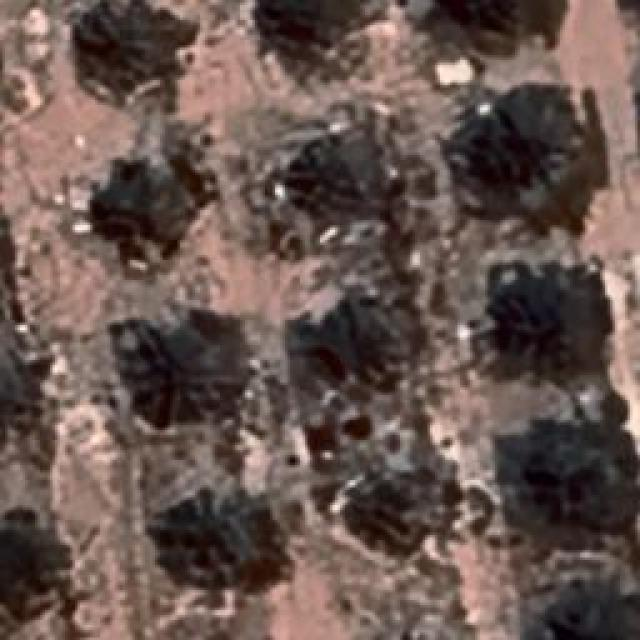PalmTree: (75, 90, 386, 506), (30, 88, 75, 562), (127, 310, 250, 438), (145, 478, 250, 582), (478, 104, 582, 186), (501, 288, 604, 370), (114, 164, 198, 264), (535, 441, 625, 534), (310, 296, 405, 382), (85, 2, 180, 88), (305, 151, 385, 234), (535, 581, 640, 640), (266, 0, 359, 60), (434, 0, 536, 39), (0, 354, 30, 438), (436, 0, 525, 25), (0, 352, 21, 437)
